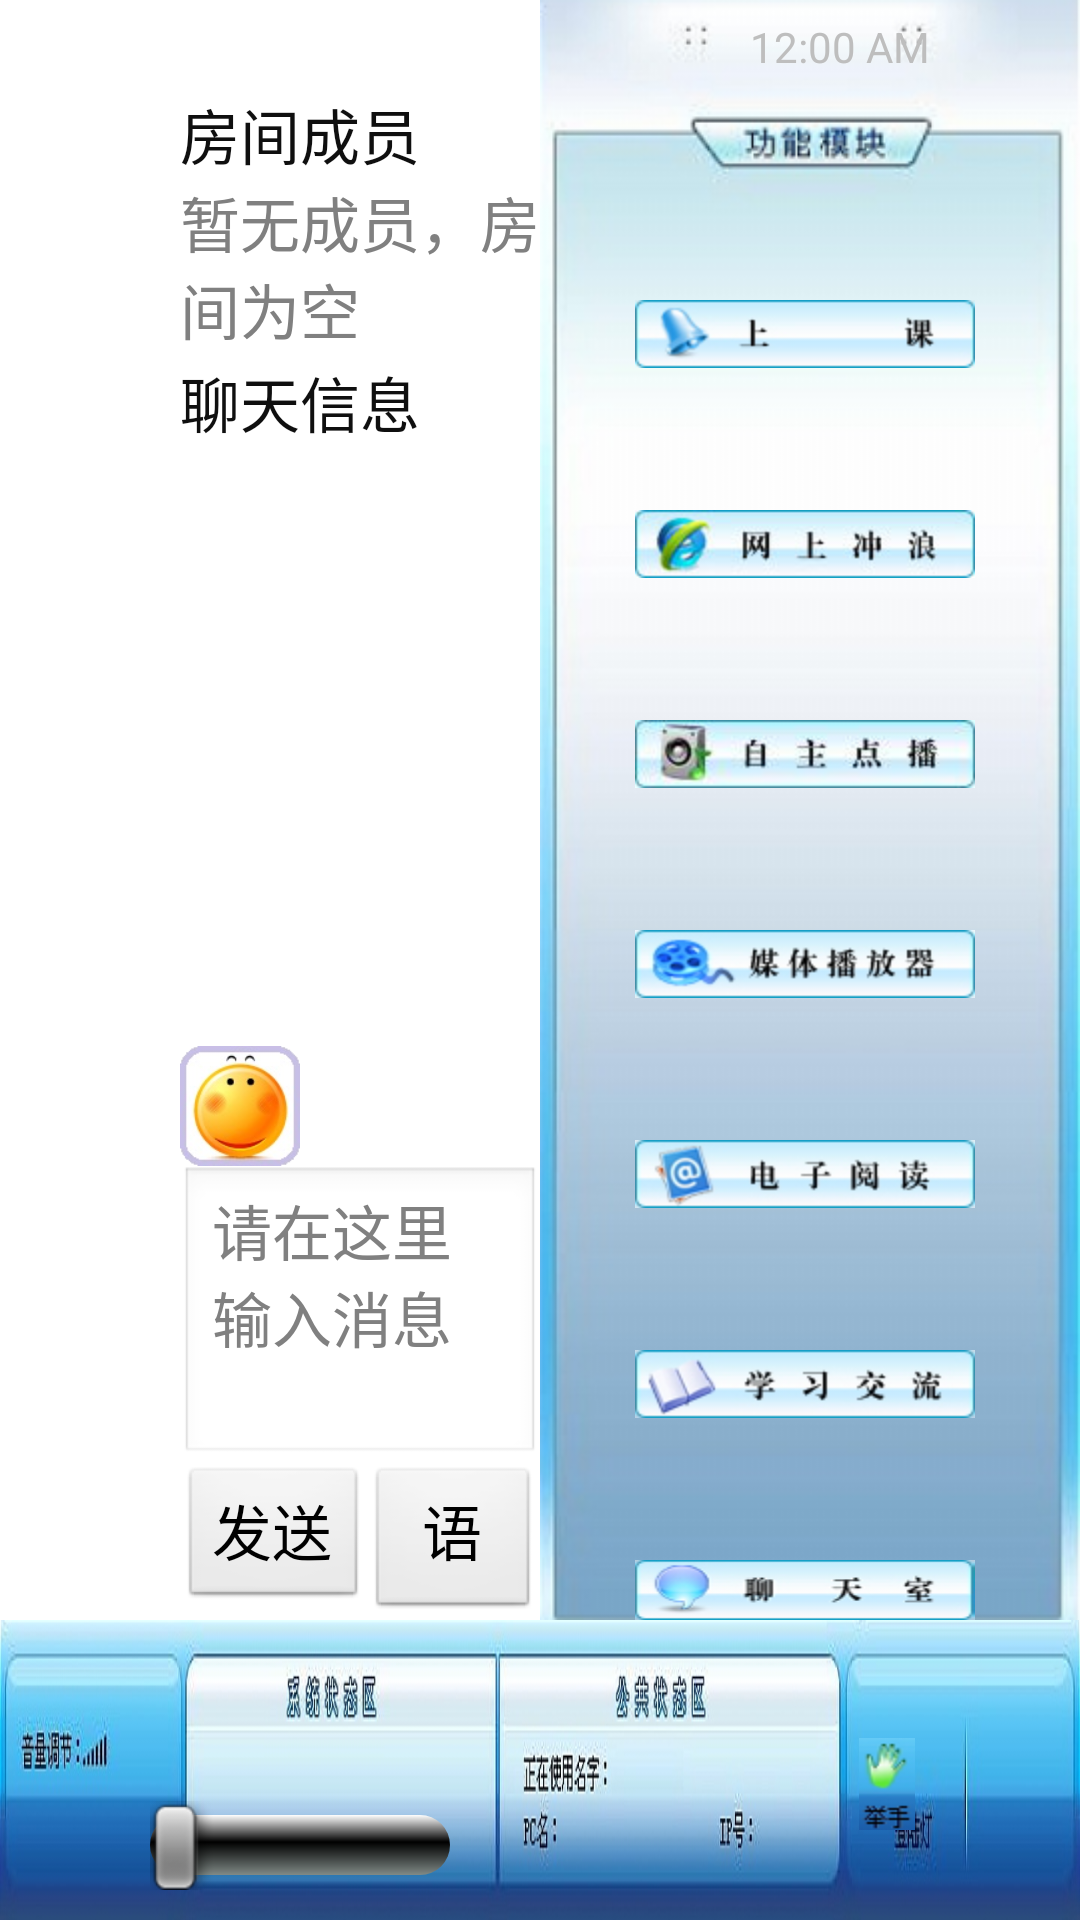

Where icons sit on this 1080 x 1920 app screen, as (x1, y1, x2, y2):
face: (180, 1046, 300, 1166)
